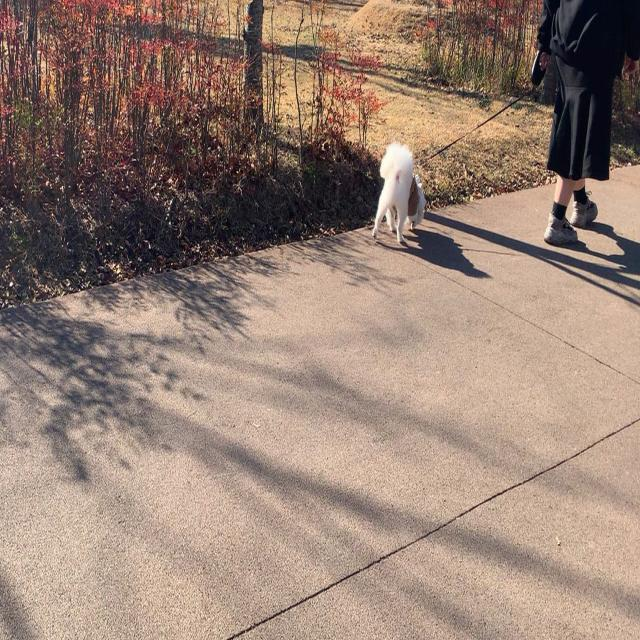Leashed_Dog: (372, 40, 574, 244)
